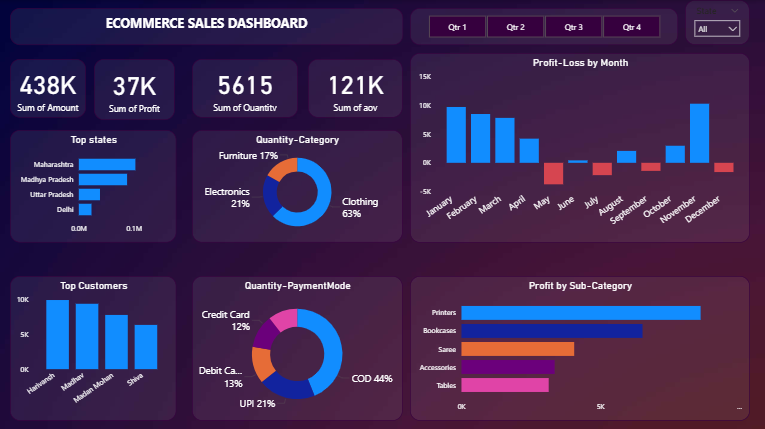

Layout of this report page (visuals, bound fields, positions):
{"tool":"powerbi","page":{"name":"Page 1","canvas":[1280,720],"ordinal":0},"visuals":[{"type":"textbox","box":[16.7,13.3,656.7,61.7],"z":0},{"type":"columnChart","title":" Profit-Loss by Month","fields":{"Y":["Details.Profit"],"Category":["Orders.Order Date.Variation.Date Hierarchy.Month"]},"box":[685,88.3,568.3,316.7],"z":1000},{"type":"barChart","title":" Profit by Sub-Category ","fields":{"Category":["Details.Sub-Category"],"Y":["Details.Profit"],"Series":["Details.Sub-Category"]},"box":[685,461.7,568.3,241.7],"z":2000},{"type":"donutChart","title":"Quantity-Category","fields":{"Category":["Details.Category"],"Y":["Details.Quantity"]},"box":[321.7,216.7,351.7,188.3],"z":3000},{"type":"donutChart","title":" Quantity-PaymentMode","fields":{"Y":["Details.Quantity"],"Category":["Details.PaymentMode"]},"box":[321.7,461.7,351.7,241.7],"z":4000},{"type":"card","fields":{"Values":["Details.Amount"]},"box":[16.7,98.3,126.7,98.3],"z":5000},{"type":"card","fields":{"Values":["Details.Profit"]},"box":[156.7,98.3,135,101.7],"z":6000},{"type":"card","fields":{"Values":["Details.Quantity"]},"box":[321.7,98.3,176.7,98.3],"z":7000},{"type":"card","fields":{"Values":["Details.aov"]},"box":[515,98.3,158.3,98.3],"z":8000},{"type":"barChart","title":"Top states","fields":{"Category":["Orders.State"],"Y":["Details.Amount"]},"box":[16.7,216.7,278.3,188.3],"z":9000},{"type":"columnChart","title":"Top  Customers","fields":{"Category":["Orders.CustomerName"],"Y":["Details.Amount"]},"box":[16.7,461.7,278.3,241.7],"z":10000},{"type":"slicer","fields":{"Values":["Orders.Order Date.Variation.Date Hierarchy.Quarter"]},"box":[685,13.3,448.3,61.7],"z":11000},{"type":"slicer","fields":{"Values":["Orders.State"]},"box":[1145,0,108.3,75],"z":12000}]}

Visuals, with their boxes in screenshot pixels (x1, y1, x2, y2), scaled from the page's 1280x720 canvas onto the 765x429 screenshot:
textbox: {"left": 10, "top": 8, "right": 402, "bottom": 45}
" Profit-Loss by Month" columnChart: {"left": 409, "top": 53, "right": 749, "bottom": 241}
" Profit by Sub-Category " barChart: {"left": 409, "top": 275, "right": 749, "bottom": 419}
"Quantity-Category" donutChart: {"left": 192, "top": 129, "right": 402, "bottom": 241}
" Quantity-PaymentMode" donutChart: {"left": 192, "top": 275, "right": 402, "bottom": 419}
card - Details.Amount: {"left": 10, "top": 59, "right": 86, "bottom": 117}
card - Details.Profit: {"left": 94, "top": 59, "right": 174, "bottom": 119}
card - Details.Quantity: {"left": 192, "top": 59, "right": 298, "bottom": 117}
card - Details.aov: {"left": 308, "top": 59, "right": 402, "bottom": 117}
"Top states" barChart: {"left": 10, "top": 129, "right": 176, "bottom": 241}
"Top  Customers" columnChart: {"left": 10, "top": 275, "right": 176, "bottom": 419}
slicer - Orders.Order Date.Variation.Date Hierarchy.Quarter: {"left": 409, "top": 8, "right": 677, "bottom": 45}
slicer - Orders.State: {"left": 684, "top": 0, "right": 749, "bottom": 45}
